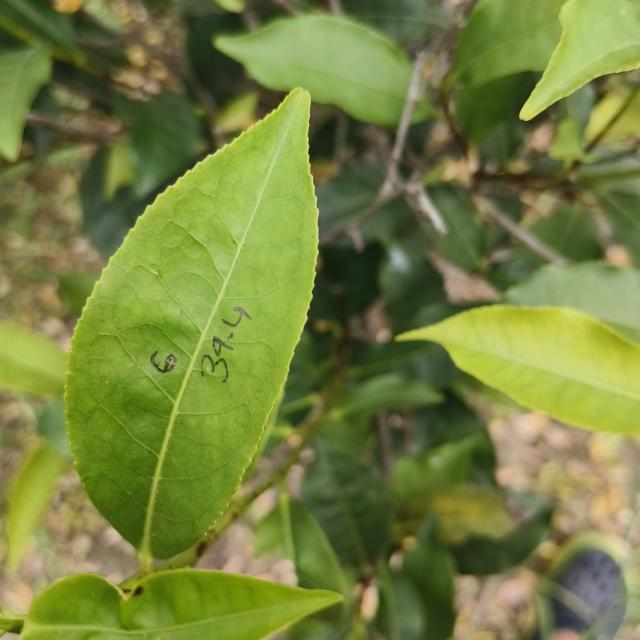Leaf: (22, 89, 342, 640), (66, 89, 318, 572), (397, 305, 640, 435), (214, 14, 411, 127), (520, 0, 640, 120), (300, 440, 391, 567), (502, 262, 640, 344), (454, 0, 566, 86), (287, 499, 354, 640), (116, 92, 199, 197), (6, 440, 67, 571), (401, 515, 455, 640), (392, 434, 483, 501), (0, 47, 52, 161), (426, 185, 488, 271), (0, 322, 67, 396), (598, 192, 640, 267), (254, 507, 288, 558)
